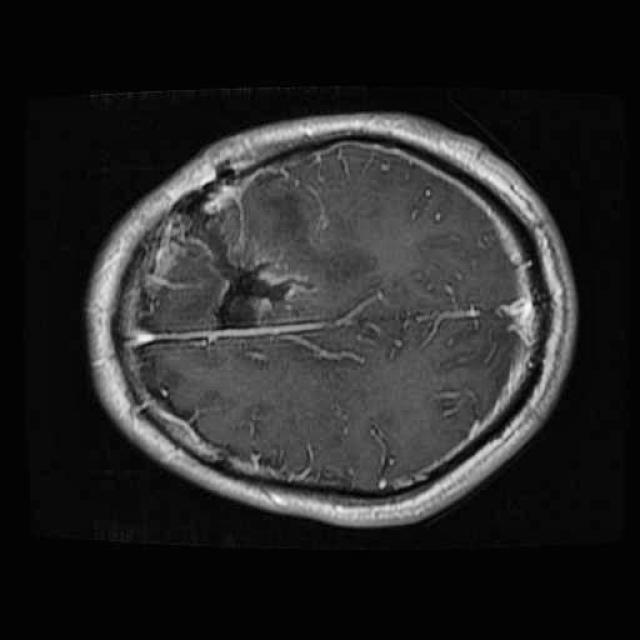Non-Tumor: (169, 196, 319, 338)
